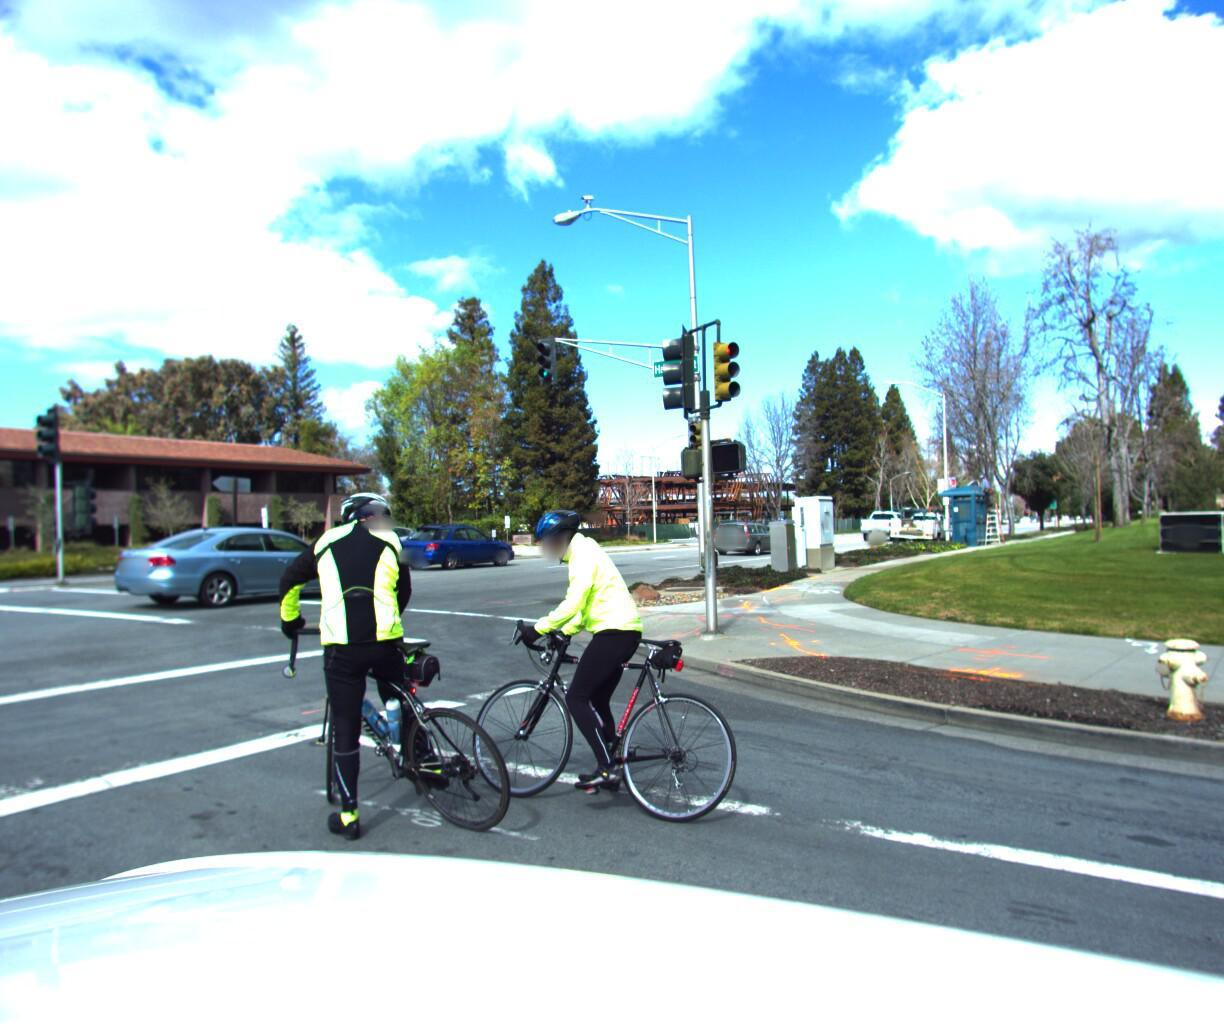bicycle: (220, 467, 535, 917), (438, 491, 768, 853)
car: (110, 526, 385, 613), (397, 524, 526, 575), (315, 525, 428, 570), (711, 520, 795, 560), (858, 514, 917, 543)
